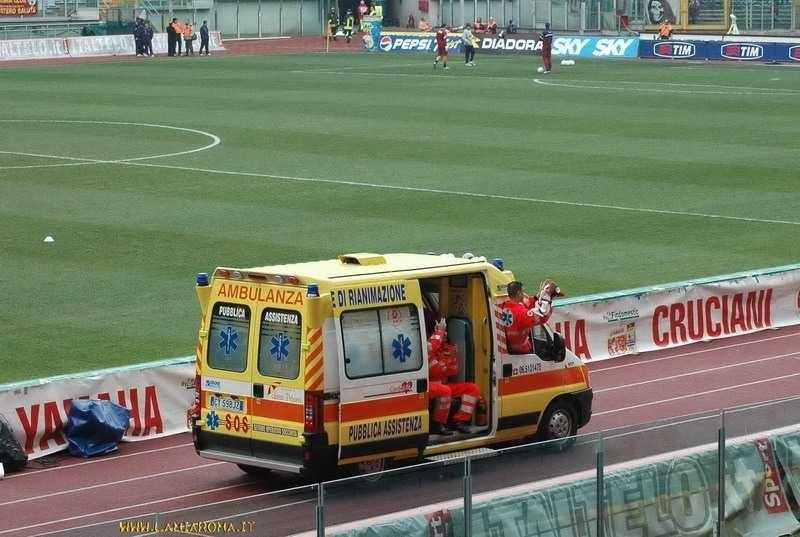car: (186, 250, 593, 483)
